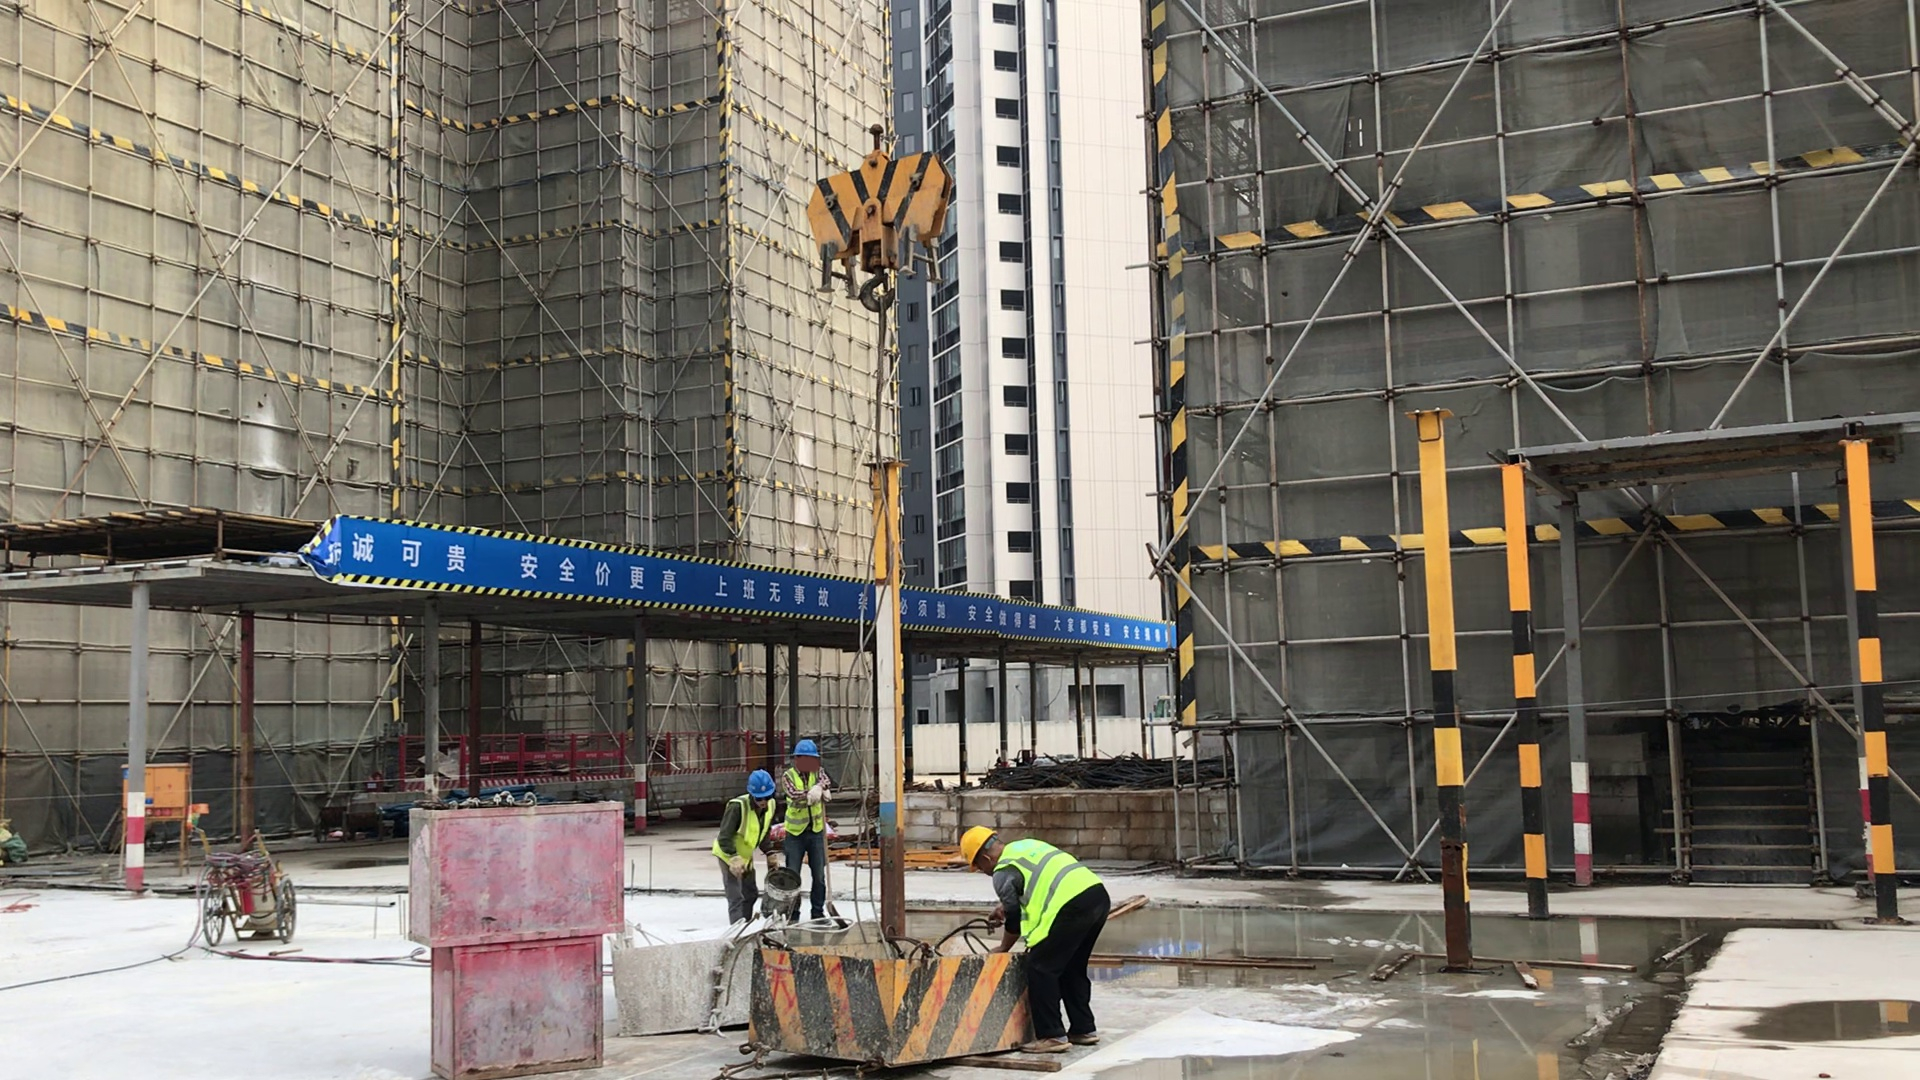ebox: (148, 753, 199, 869)
fence: (341, 515, 855, 619), (900, 586, 1165, 649), (479, 727, 624, 781), (660, 728, 751, 770)
handcart: (189, 824, 300, 950)
helmet: (960, 824, 1001, 874), (746, 769, 776, 799), (791, 741, 821, 759)
hook: (800, 128, 955, 313)
hopper: (740, 930, 1016, 1080), (606, 932, 743, 1046)
person: (955, 821, 1115, 1055), (714, 765, 785, 924), (784, 739, 834, 926)
vest: (992, 837, 1106, 949), (714, 795, 779, 872), (782, 767, 830, 838)
